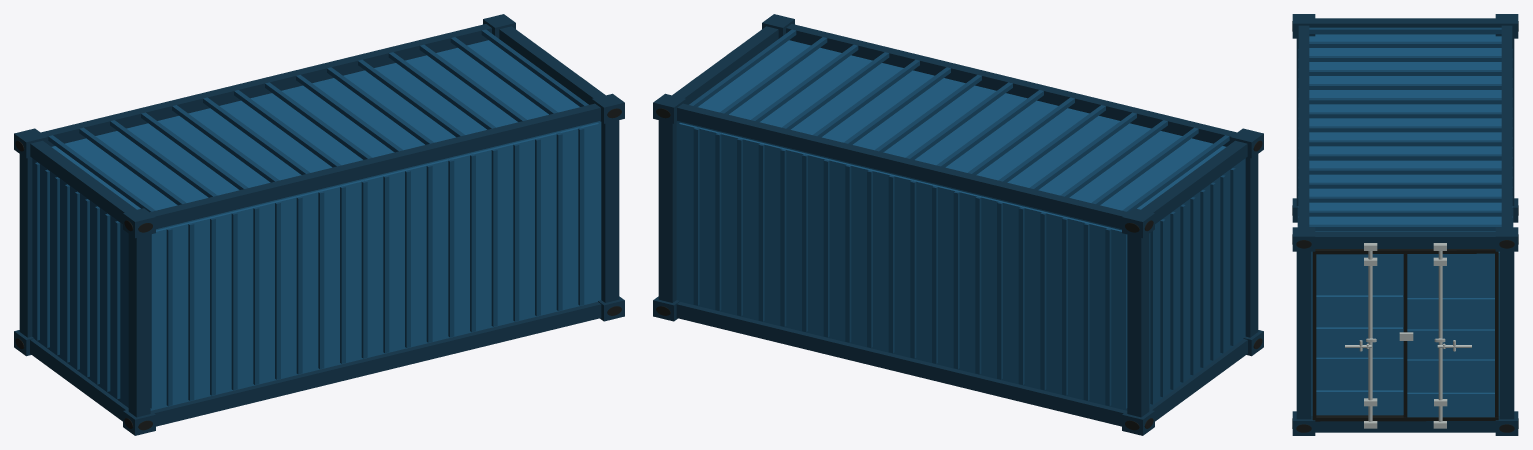
File: lager-container.glb
3 views of the same model, side by side, from view 1: azimuth 30°, elevation 25°; view 2: azimuth 150°, elevation 25°; view 3: azimuth 270°, elevation 25° (orthographic). The views are drawn at different scales.
Visible parts, largest first — view 1: right-long-wall-base-panel, main-steel-container-shell, rear-wall-corrugated-base, top-right-side-rail, bottom-right-side-rail, top-left-side-rail, vertical-corner-post.001, vertical-corner-post.003, vertical-corner-post, top-back-rail, top-front-rail, bottom-back-rail (+46 smaller); view 2: left-long-wall-base-panel, main-steel-container-shell, rear-wall-corrugated-base, top-left-side-rail, bottom-left-side-rail, top-right-side-rail, vertical-corner-post, vertical-corner-post.002, vertical-corner-post.001, top-back-rail, top-front-rail, bottom-back-rail (+46 smaller); view 3: main-steel-container-shell, left-steel-door-panel, top-front-rail, vertical-corner-post.002, vertical-corner-post.003, top-left-side-rail, top-right-side-rail, right-steel-door-panel, right-steel-door-panel.003, right-steel-door-panel.007, right-steel-door-panel.001, right-steel-door-panel.004 (+35 smaller).
Part boxes in pixels (box(x1,y1,x2,y2)): right-long-wall-base-panel: box(150, 123, 598, 408); main-steel-container-shell: box(52, 40, 601, 410); rear-wall-corrugated-base: box(32, 158, 128, 407); top-right-side-rail: box(150, 103, 600, 229); bottom-right-side-rail: box(151, 302, 601, 426); top-left-side-rail: box(41, 24, 491, 146); vertical-corner-post.001: box(128, 234, 150, 417); vertical-corner-post.003: box(601, 120, 619, 302); vertical-corner-post: box(19, 154, 32, 337); top-back-rail: box(30, 140, 136, 223); top-front-rail: box(499, 26, 605, 104); bottom-back-rail: box(30, 339, 128, 421); left-long-wall-base-panel: box(679, 123, 1127, 408); main-steel-container-shell: box(676, 40, 1225, 410); rear-wall-corrugated-base: box(1149, 158, 1245, 407); top-left-side-rail: box(677, 103, 1127, 229); bottom-left-side-rail: box(676, 302, 1126, 426); top-right-side-rail: box(786, 24, 1236, 146); vertical-corner-post: box(1127, 234, 1149, 417); vertical-corner-post.002: box(658, 120, 676, 302); vertical-corner-post.001: box(1245, 154, 1258, 337); top-back-rail: box(1141, 140, 1247, 223); top-front-rail: box(672, 26, 778, 104); bottom-back-rail: box(1149, 339, 1247, 421); main-steel-container-shell: box(1309, 34, 1501, 415); left-steel-door-panel: box(1407, 251, 1499, 415); top-front-rail: box(1315, 231, 1495, 248); vertical-corner-post.002: box(1499, 251, 1514, 419); vertical-corner-post.003: box(1296, 251, 1311, 419); top-left-side-rail: box(1501, 25, 1512, 227); top-right-side-rail: box(1298, 25, 1309, 227); right-steel-door-panel: box(1316, 357, 1403, 382); right-steel-door-panel.003: box(1316, 295, 1402, 320); right-steel-door-panel.007: box(1407, 392, 1494, 417); right-steel-door-panel.001: box(1316, 390, 1403, 415); right-steel-door-panel.004: box(1407, 298, 1494, 322).
Size of the model in its own units: 6.38 by 2.64 by 2.72.
